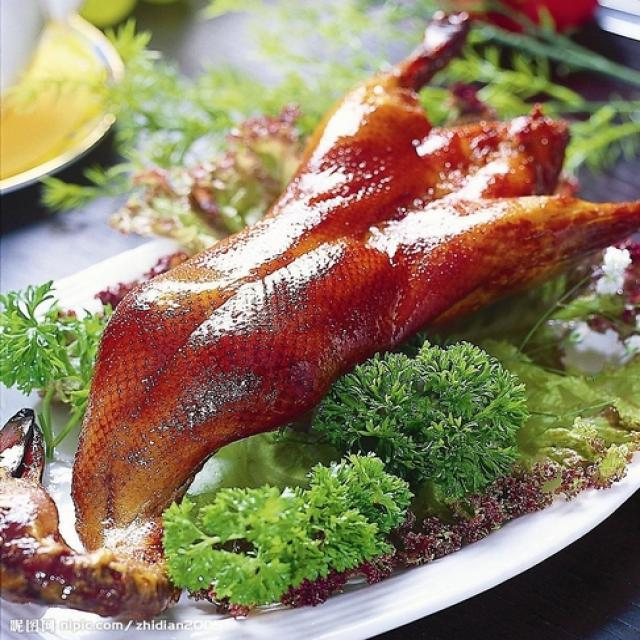烧串烤肉: (39, 40, 602, 608)
